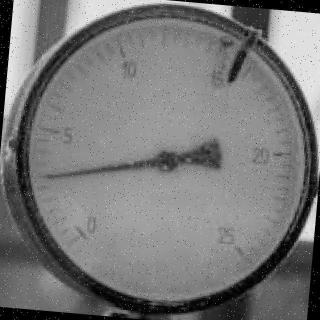gauge: (0, 0, 320, 320), (57, 202, 126, 256), (208, 222, 262, 278), (158, 146, 182, 176), (36, 169, 54, 183)
